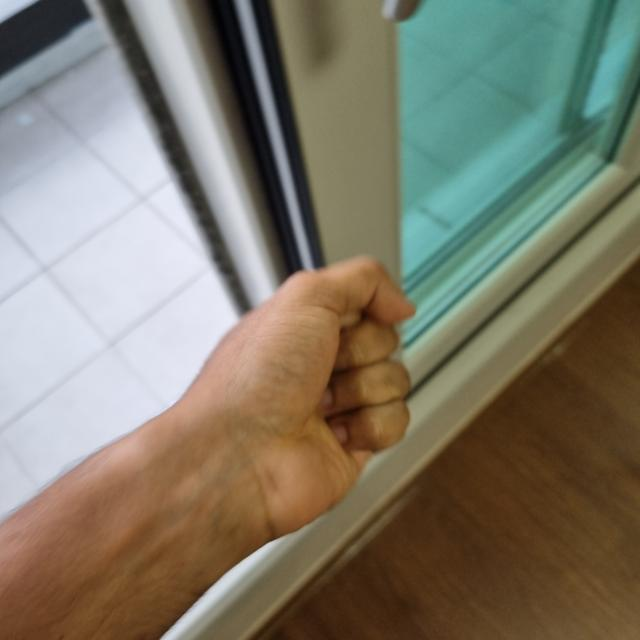Rock: (151, 255, 417, 542)
